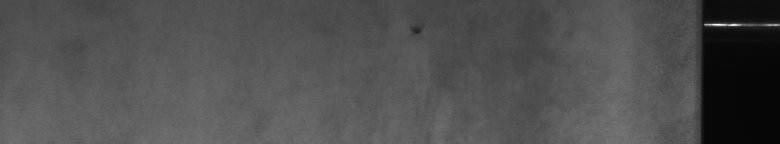fi: (408, 20, 427, 44)
